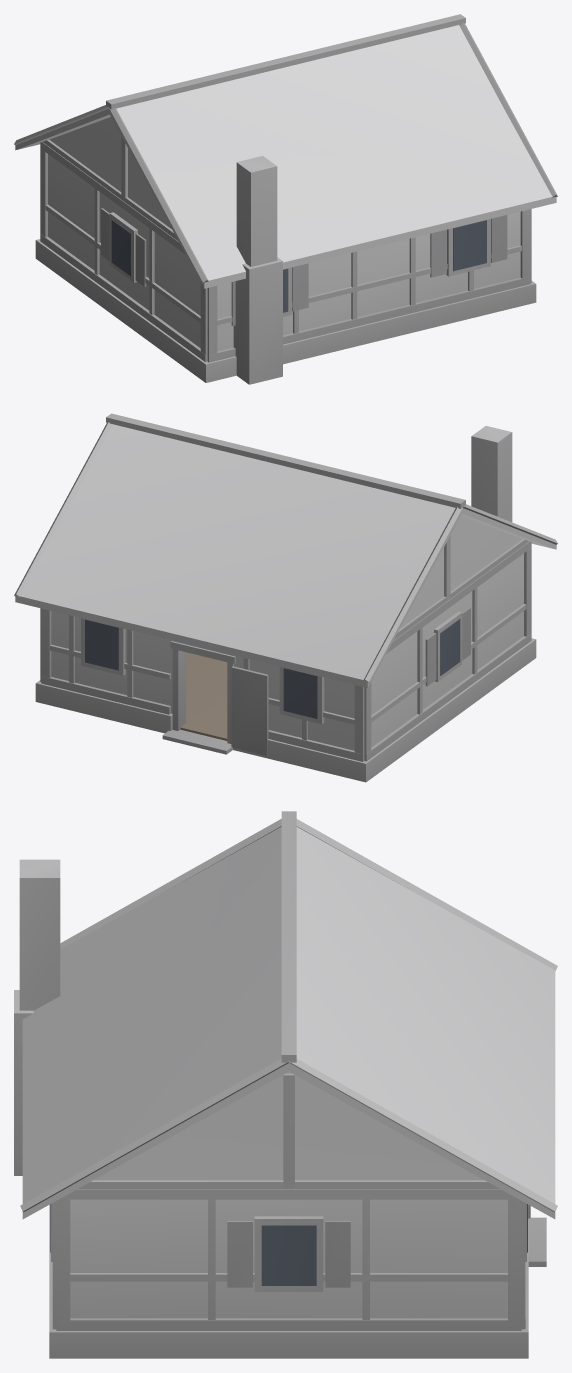
File: open_house_pale.gltf
The picture shows the model from 3 angles, top to bottom: view 1: azimuth 30°, elevation 25°; view 2: azimuth 150°, elevation 25°; view 3: azimuth 270°, elevation 25°; orthographic projection. The views are drawn at different scales.
Visible parts, largest first — view 1: Body; view 2: Body; view 3: Body.
Boxes of the visible parts, box(x1,y1,x2,y2) form: Body: box(14, 14, 557, 384); Body: box(14, 413, 557, 782); Body: box(14, 811, 557, 1358).
Size of the model in its own units: 9.97 by 5.94 by 9.39.
